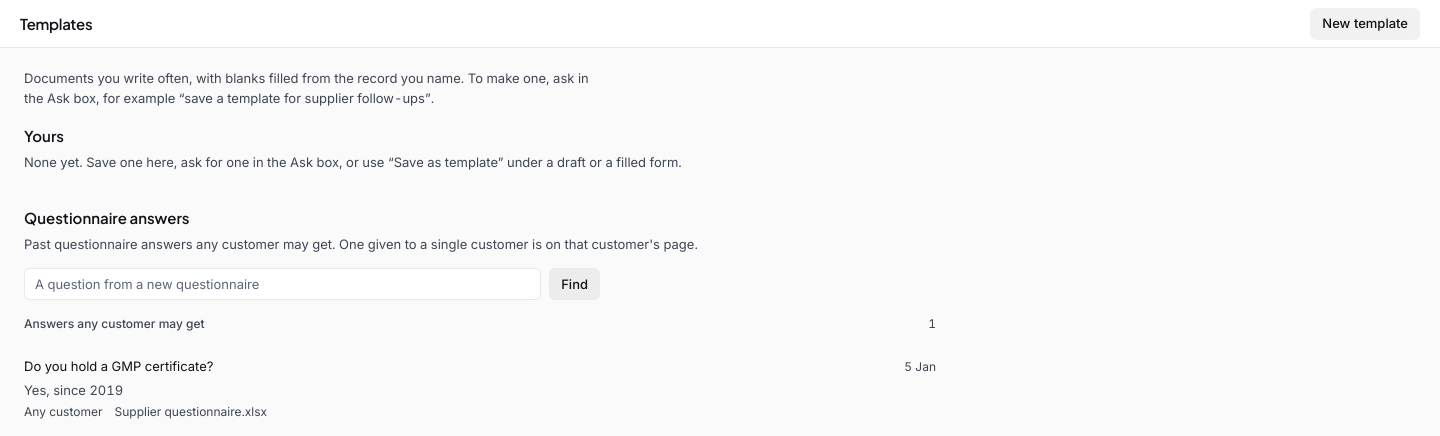
it: templates page: the answer bank › lists past answers with their questionnaire and ranks them against a typed question
Expected: the text "Yes, since 2019" is shown, [24,382,123,398]
Type "nothing like it" into the search field named "Find answers to a question" at {"x": 283, "y": 284}, box [24,268,541,300]
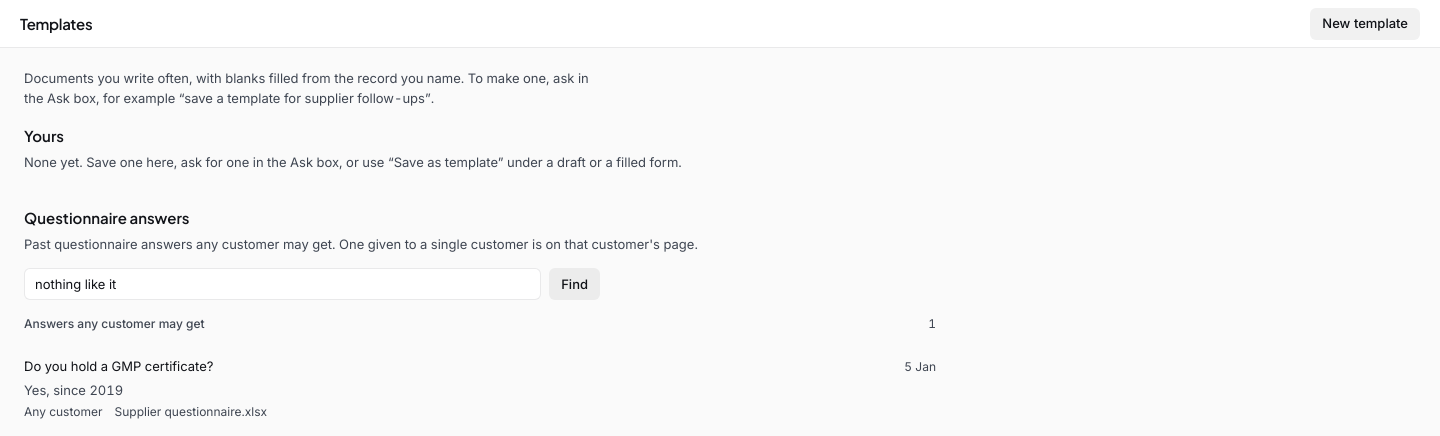
Click the button "Find" at {"x": 575, "y": 284}, box [549,268,600,300]
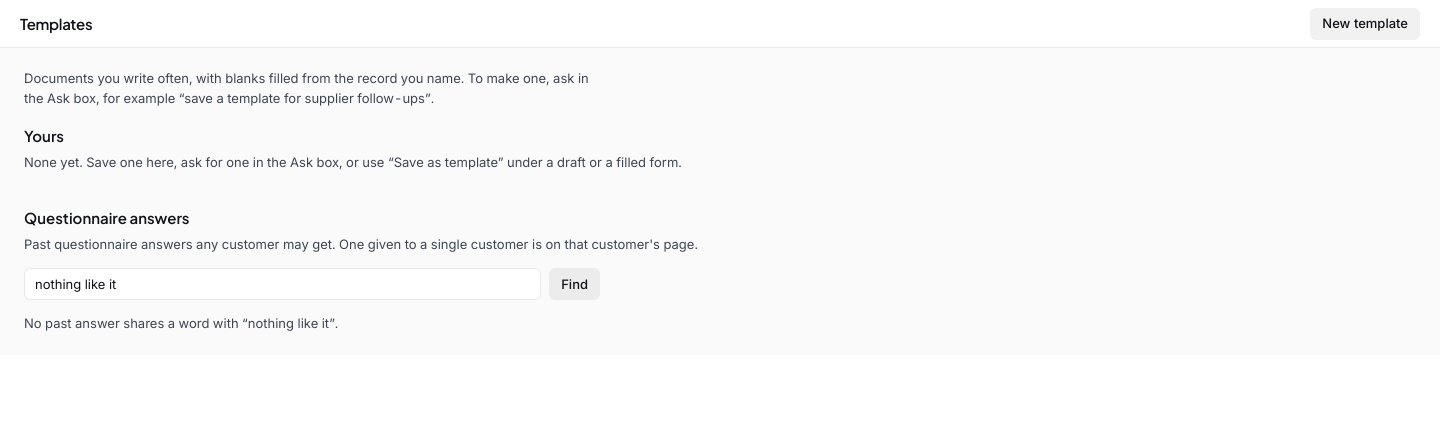
Expected: the text with test id "answer-bank-empty" reads "No past answer shares a word with “nothing like it”.", [24,315,338,331]
